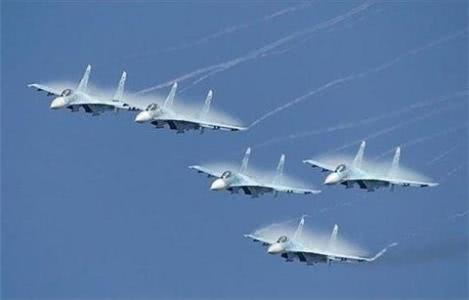airplane: (243, 213, 395, 267), (188, 148, 323, 201), (310, 140, 442, 194), (124, 82, 247, 135), (24, 66, 151, 115)
